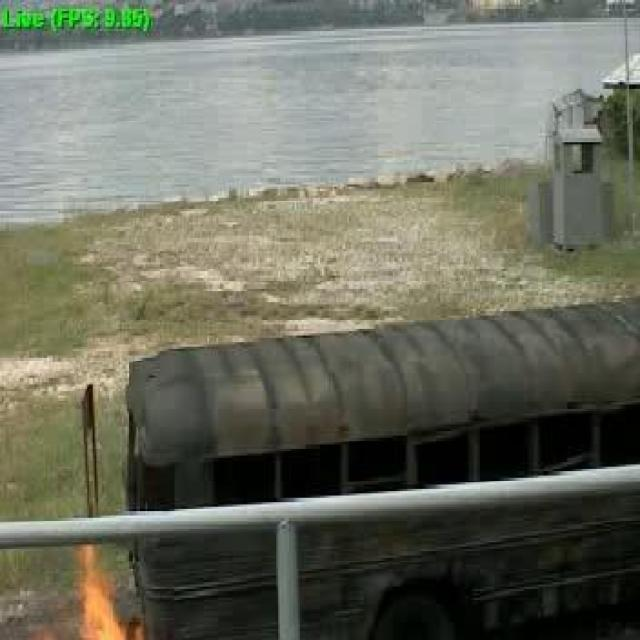fire: (44, 468, 142, 636)
